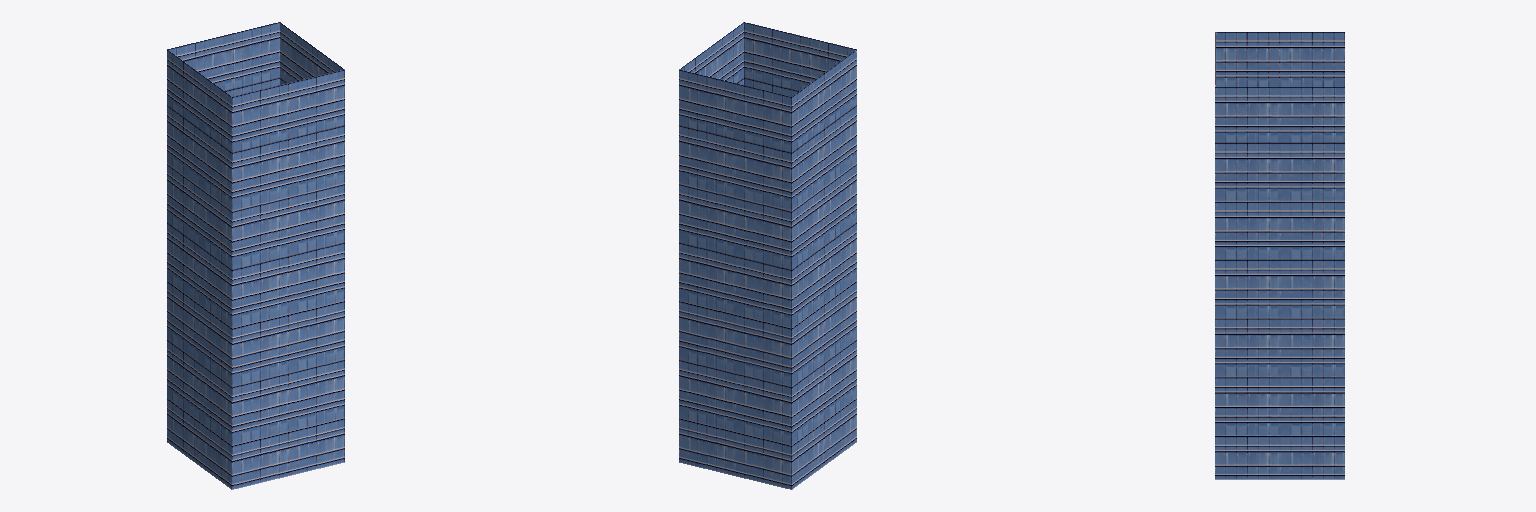
3 views of the same model, side by side, from view 1: azimuth 30°, elevation 25°; view 2: azimuth 150°, elevation 25°; view 3: azimuth 270°, elevation 25° (orthographic).
Visible parts, largest first — view 1: Cube1; view 2: Cube1; view 3: Cube1.
Part boxes in pixels (x1,y1,x2,y2): Cube1: (167, 22, 344, 489); Cube1: (679, 22, 856, 489); Cube1: (1215, 32, 1344, 479).
Bounding box in the file's own units: 30 × 100 × 30.
2 materials, 1 textured.